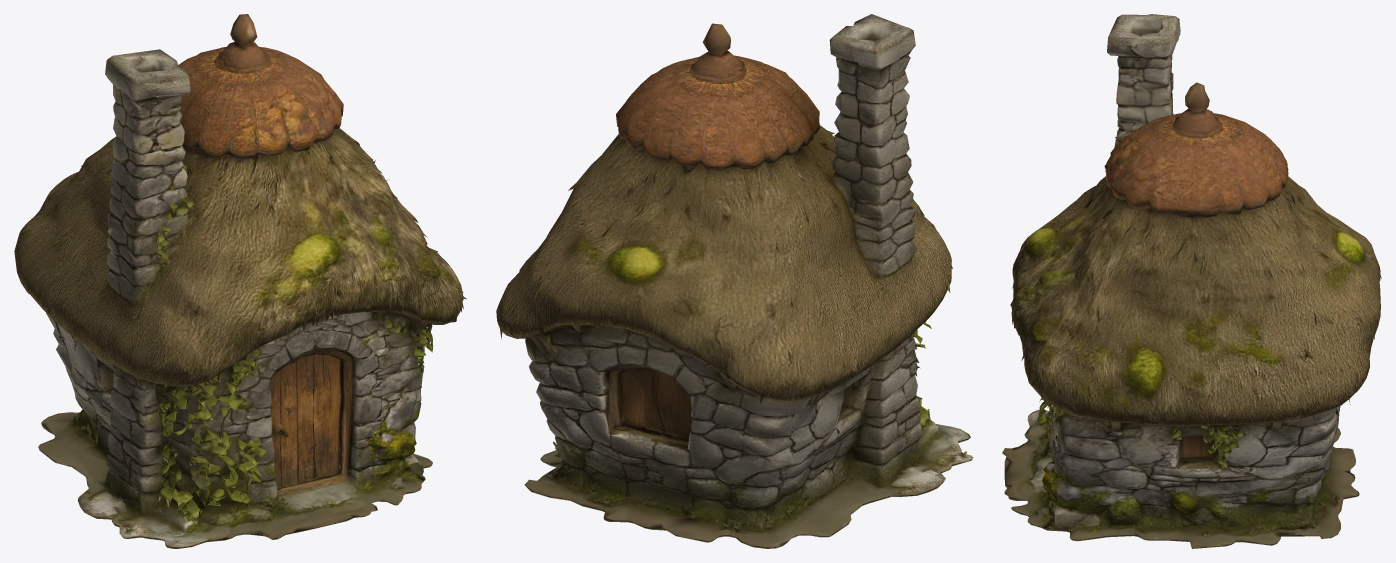
Rendered from town_house_stone_thatch.glb.
3 renders of one model, left to right at view 1: azimuth 30°, elevation 25°; view 2: azimuth 150°, elevation 25°; view 3: azimuth 270°, elevation 25°, orthographic. The views are drawn at different scales.
Visible parts, largest first — view 1: tripo_node_4a045717-210a-4c99-88a3-60c8494c37c5; view 2: tripo_node_4a045717-210a-4c99-88a3-60c8494c37c5; view 3: tripo_node_4a045717-210a-4c99-88a3-60c8494c37c5.
Boxes of the visible parts, x1,y1,x2,y2 form: tripo_node_4a045717-210a-4c99-88a3-60c8494c37c5: (14, 14, 466, 548); tripo_node_4a045717-210a-4c99-88a3-60c8494c37c5: (496, 14, 973, 548); tripo_node_4a045717-210a-4c99-88a3-60c8494c37c5: (1002, 14, 1381, 548).
Bounding box in the file's own units: 4.98 × 6 × 5.1.
1 material, 1 textured.
